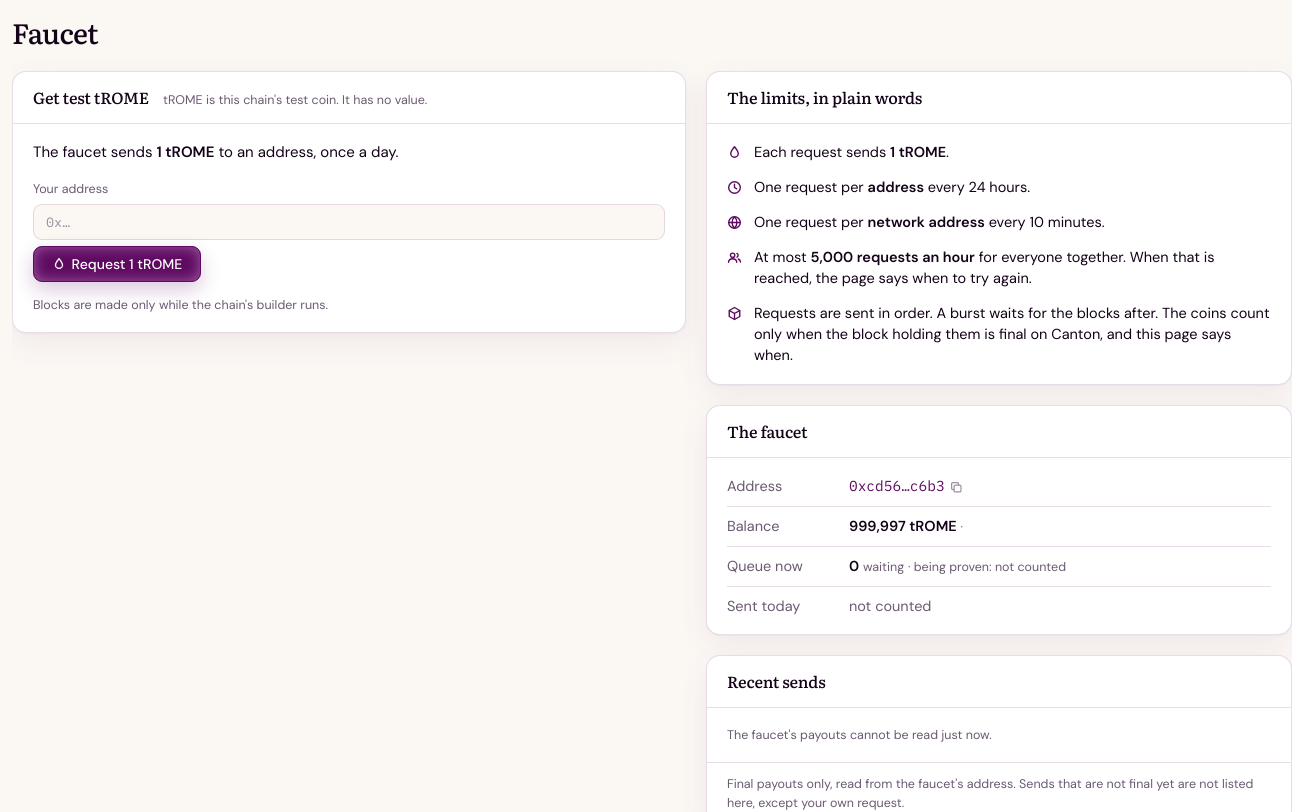
Scenario: a request that fails › catches something that is not an address before asking the server
In the field labelled "Your address": (349, 222) [33,204,665,240], type "0x5b2e91c"
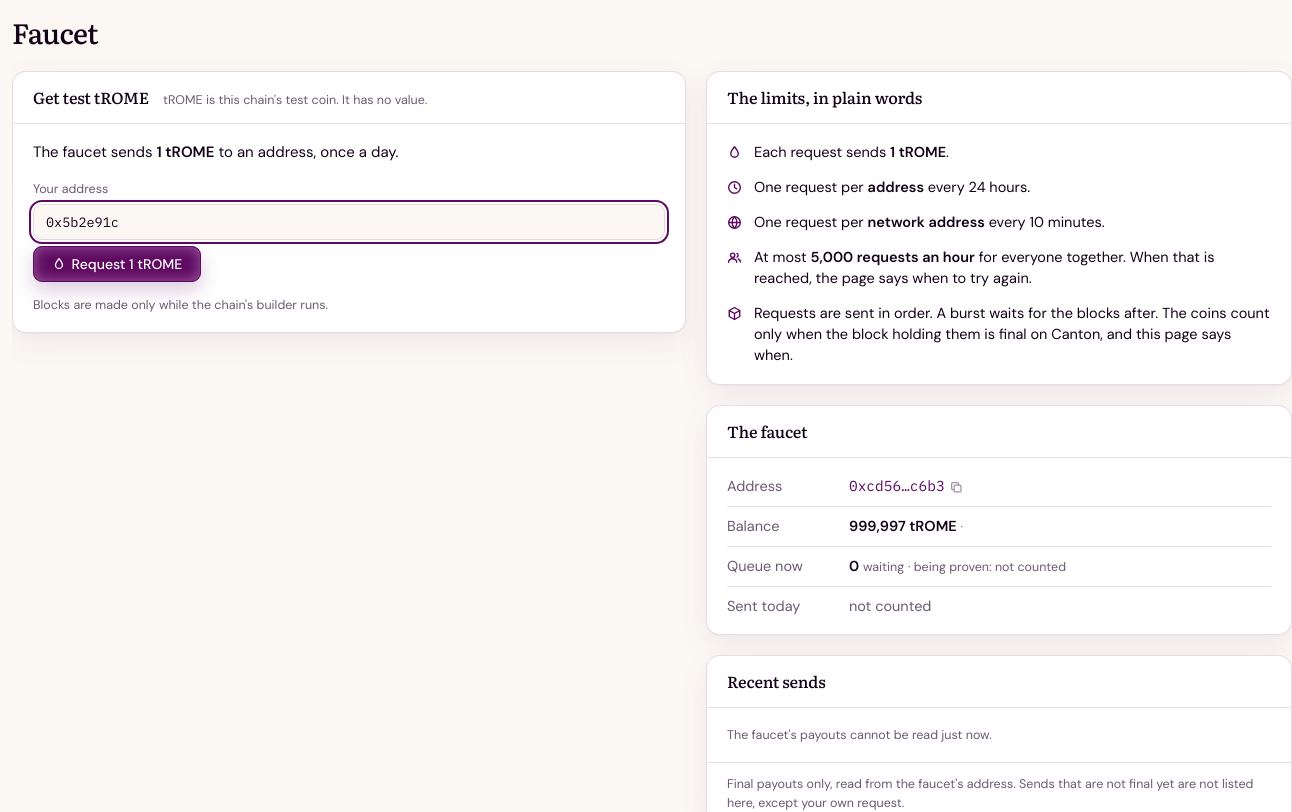
Click the button "Request 1 tROME": (117, 264) [33,246,201,282]
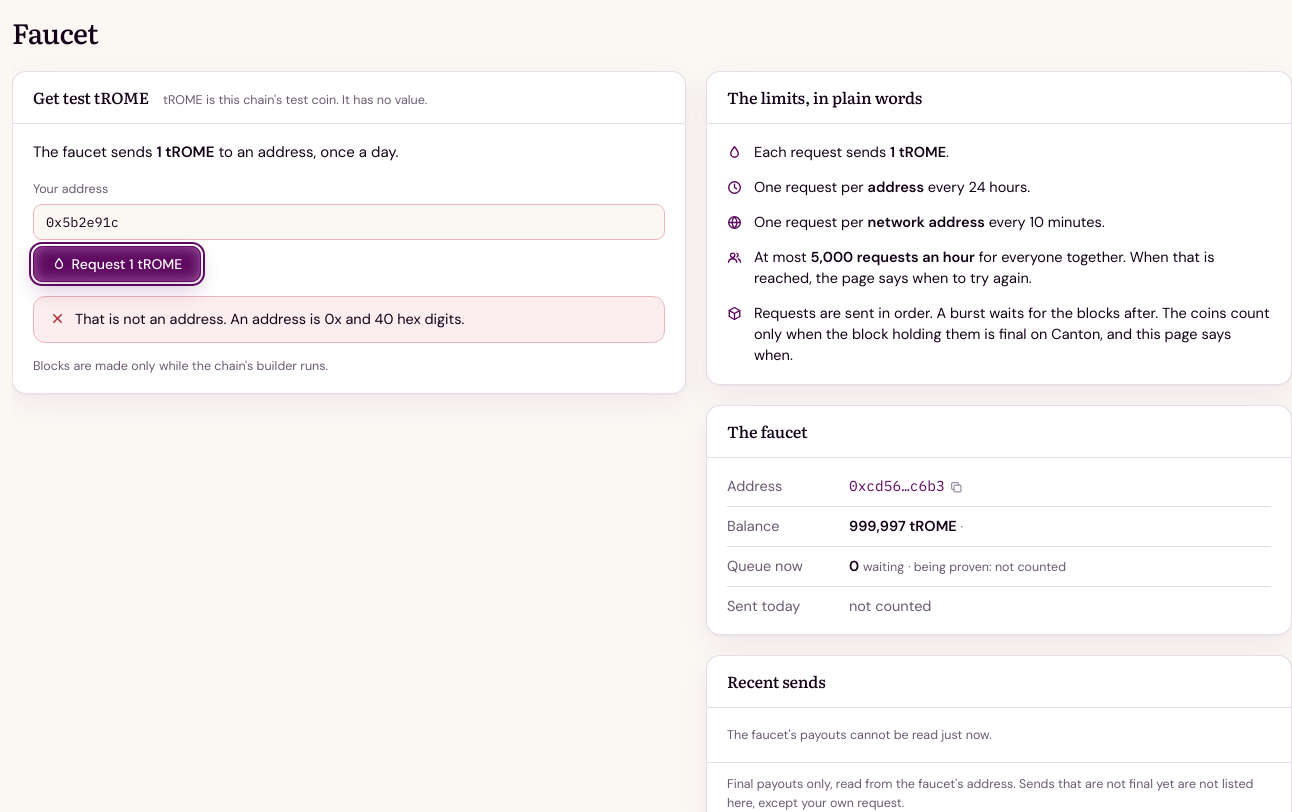
Now the message reads "That is not an address. An address is 0x and 40 hex digits.", box [75,310,464,328]
